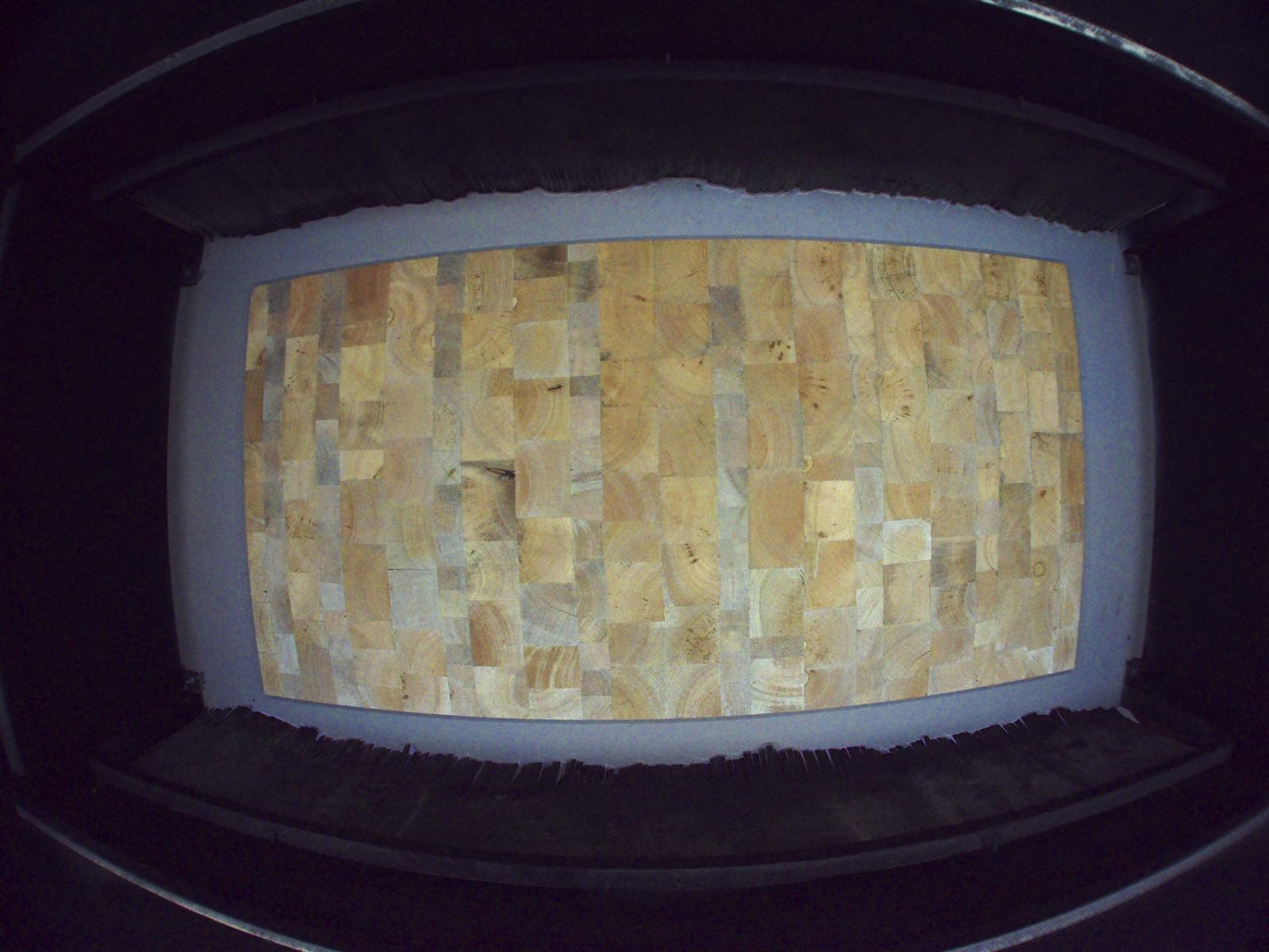nudillo: (485, 465, 516, 481)
